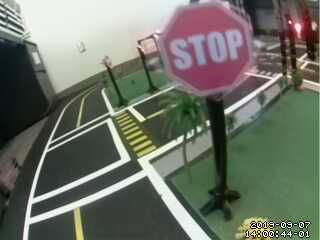Stop_Sign: (157, 6, 258, 94)
